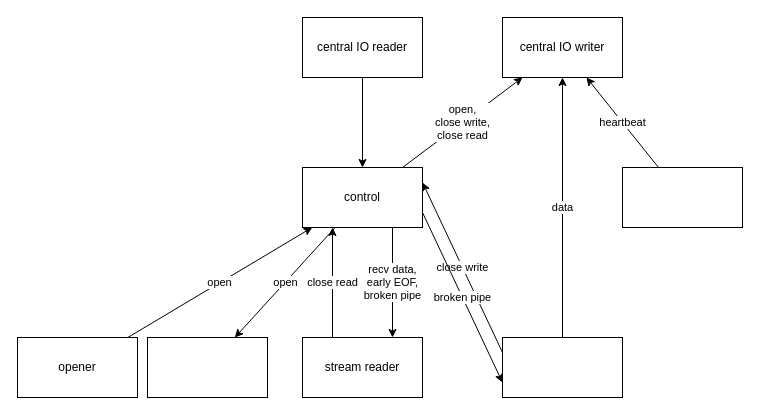
Some shapes in this 760 by 415 pixel diagram are drawn without their labels. Each missing label, with the box of its shape:
accepter: (146, 336, 268, 398)
stream writer: (502, 336, 622, 398)
timer: (622, 166, 742, 228)
